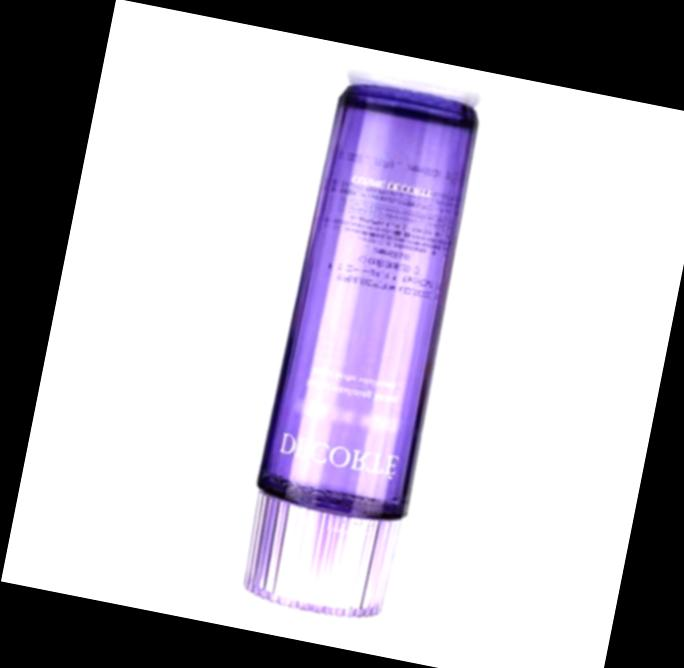cosmetic: (226, 74, 491, 622)
